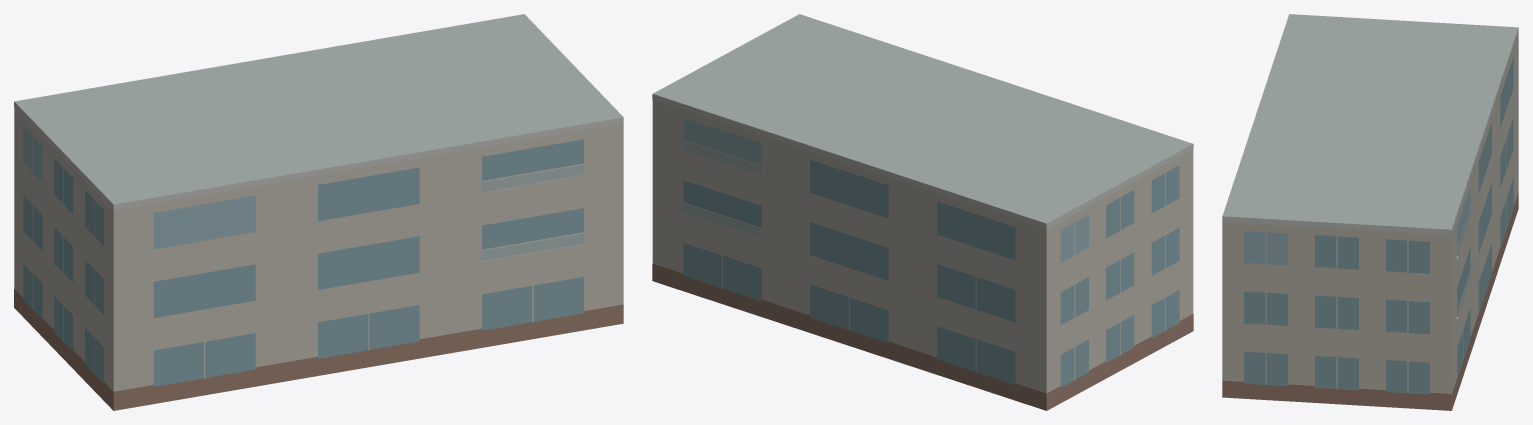
Rendered from survey-upis-32910193.glb.
The picture shows the model from 3 angles, left to right: view 1: azimuth 30°, elevation 25°; view 2: azimuth 150°, elevation 25°; view 3: azimuth 270°, elevation 25°; orthographic projection. The views are drawn at different scales.
Visible parts, largest first — view 1: survey-upis-32910193.tmp; view 2: survey-upis-32910193.tmp; view 3: survey-upis-32910193.tmp.
Part boxes in pixels (<box>): survey-upis-32910193.tmp: <box>14,14,623,410</box>; survey-upis-32910193.tmp: <box>652,14,1193,410</box>; survey-upis-32910193.tmp: <box>1222,14,1518,410</box>.
Bounding box in the file's own units: 21.46 × 8.4 × 12.46.
